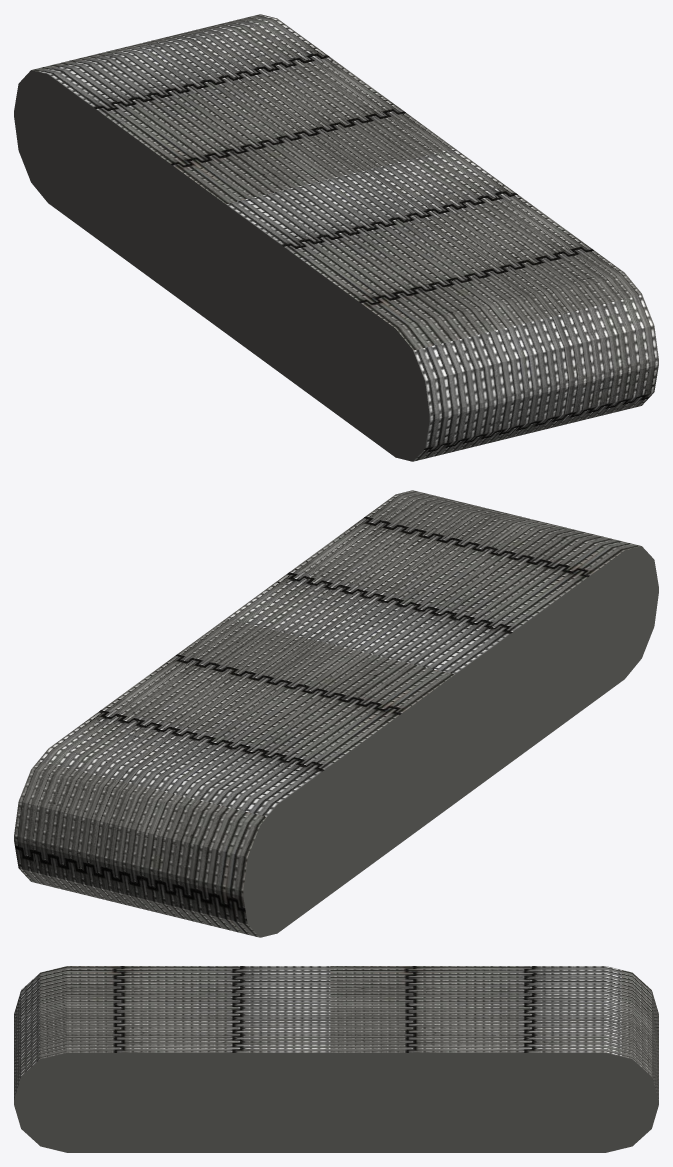
Rendered from CintaTransportadora.fbx.
The picture shows the model from 3 angles, top to bottom: view 1: azimuth 30°, elevation 25°; view 2: azimuth 150°, elevation 25°; view 3: azimuth 270°, elevation 25°; orthographic projection. The views are drawn at different scales.
Parts seen in each view (by area): view 1: Belt; view 2: Belt; view 3: Belt.
Part boxes in pixels (x1=…): Belt: x1=14, y1=14, x2=658, y2=461; Belt: x1=14, y1=490, x2=658, y2=937; Belt: x1=14, y1=966, x2=658, y2=1152.
Size of the model in its own units: 200 by 108 by 628.
